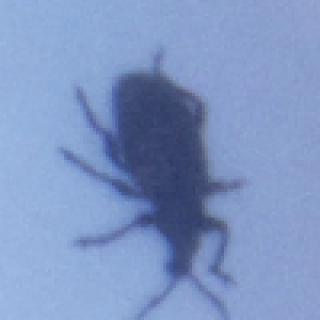bvw: (58, 45, 250, 319)
